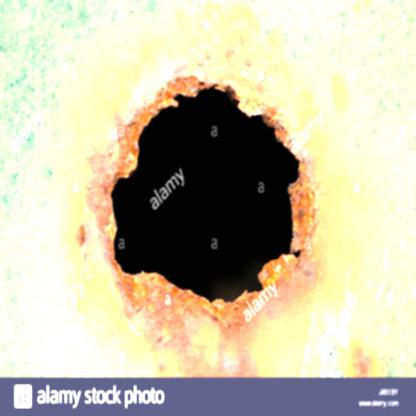burst: (88, 75, 339, 326)
